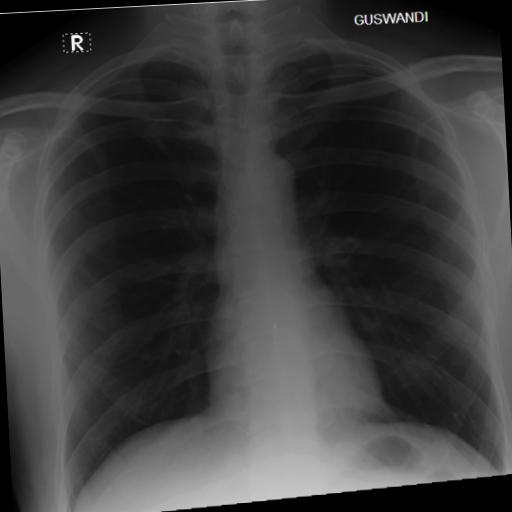normal: (22, 0, 512, 497)
